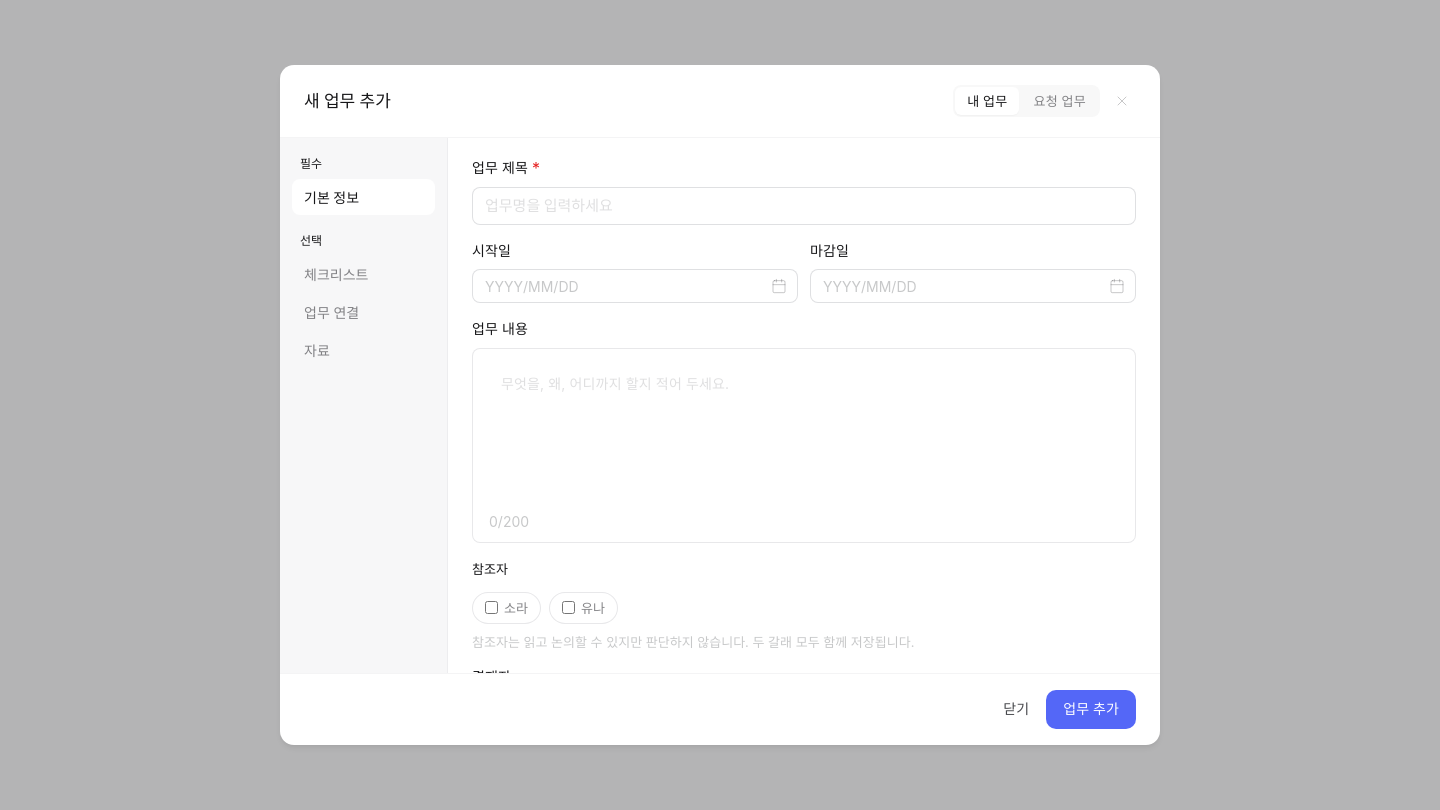
Test: 업무 연결 판 › 줄 넷이 선다 — 상위·프로젝트 한 행에 참고 업무와 선행 업무가 따른다
Click the tab "업무 연결" at [364, 312], box [292,294,435,330]
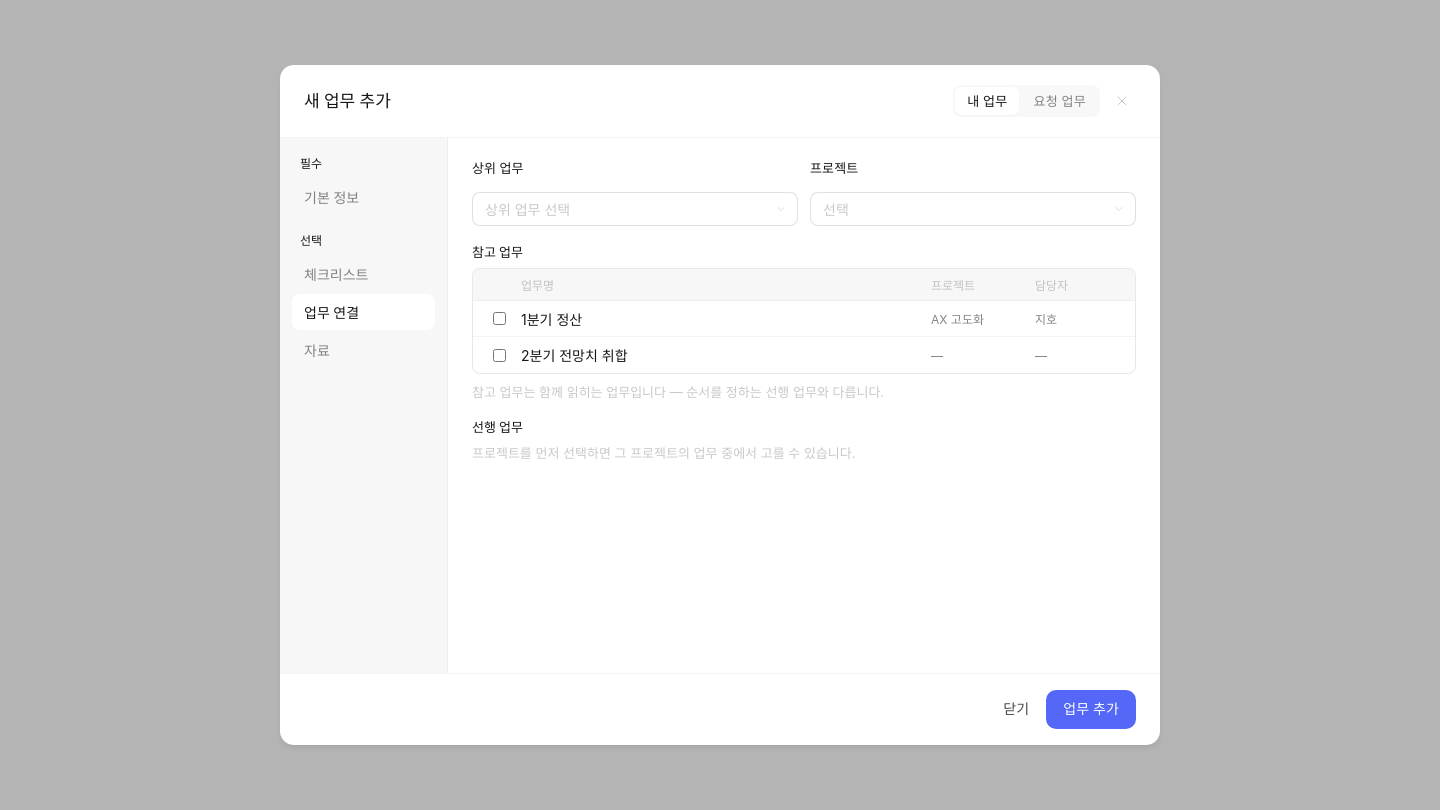
Check: the button labelled "상위 업무 선택" is shown, box [472,192,798,226]
Check: the button with aria-label "프로젝트" is shown, box [810,192,1136,226]
Check: the element "참고 업무" is shown, box [472,242,1136,401]
